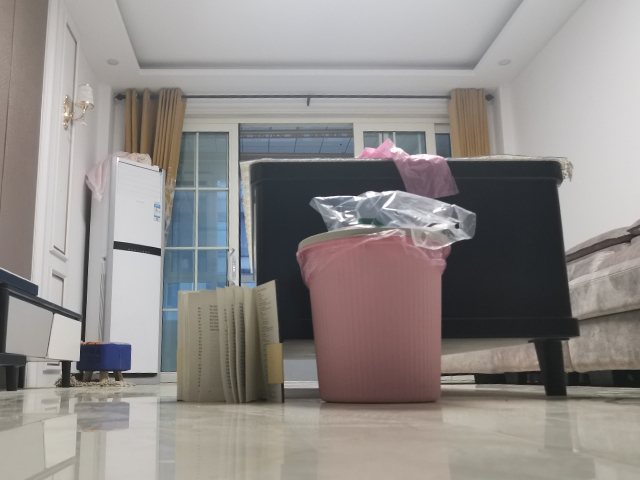book: (171, 277, 288, 406)
cabinet: (1, 268, 86, 389)
carpet: (53, 375, 128, 390)
sofa: (566, 220, 639, 391)
stool: (74, 339, 133, 384)
table: (236, 156, 582, 398)
trashcan: (293, 223, 455, 405)
